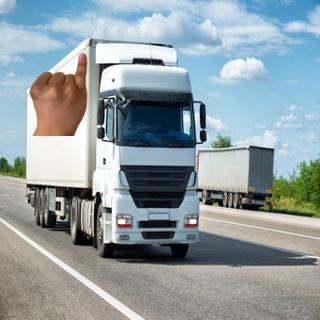FINE: (27, 50, 93, 132)
